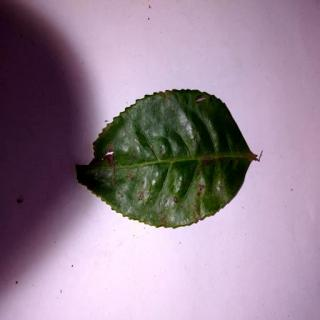Bird Eye Spot: (75, 91, 259, 233)
